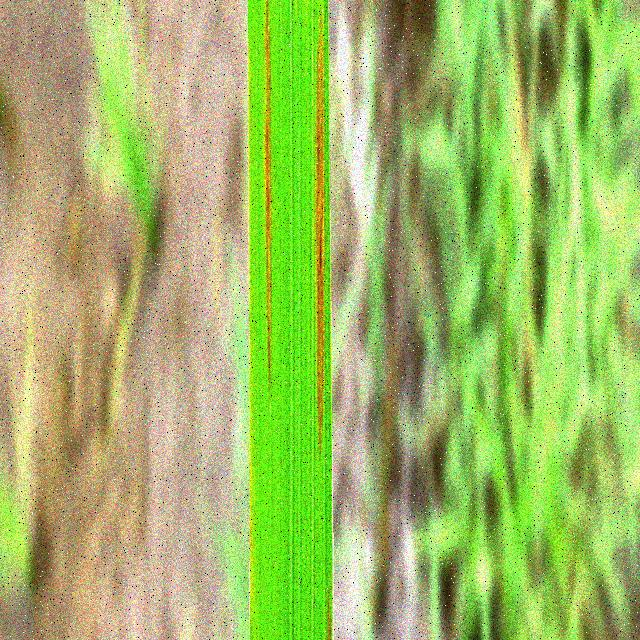NBS: (316, 11, 325, 450), (265, 0, 272, 387)
